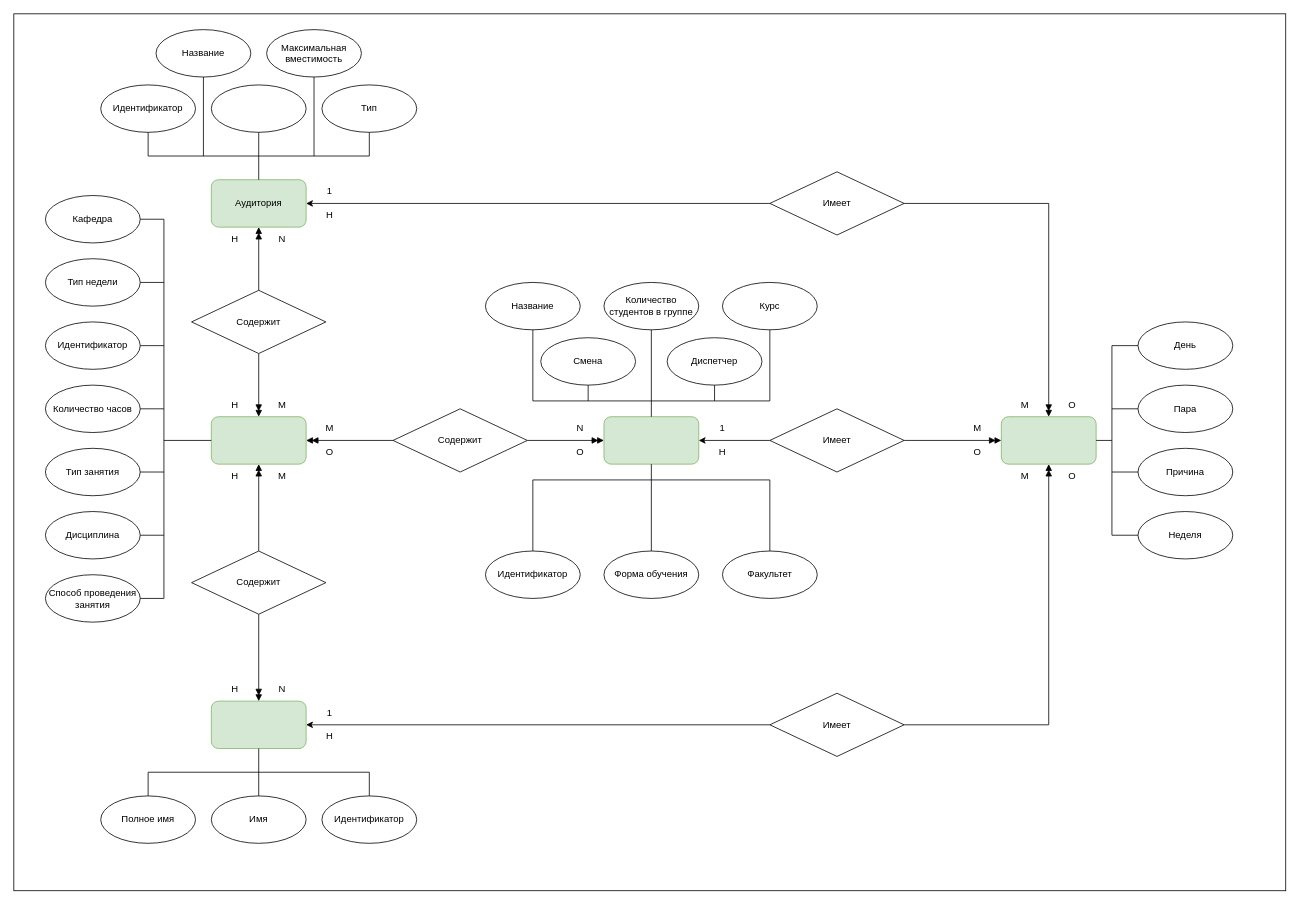
Image size: 1300x905. Some labels were removed from this diagram. The centre of each missing label's shape, as x and y in pixels:
"Группа" goes at (651,440).
"Корпус" goes at (258,108).
"Нагрузка" goes at (258,440).
"Пожелания" goes at (1048,440).
"Преподаватель" goes at (258,724).
